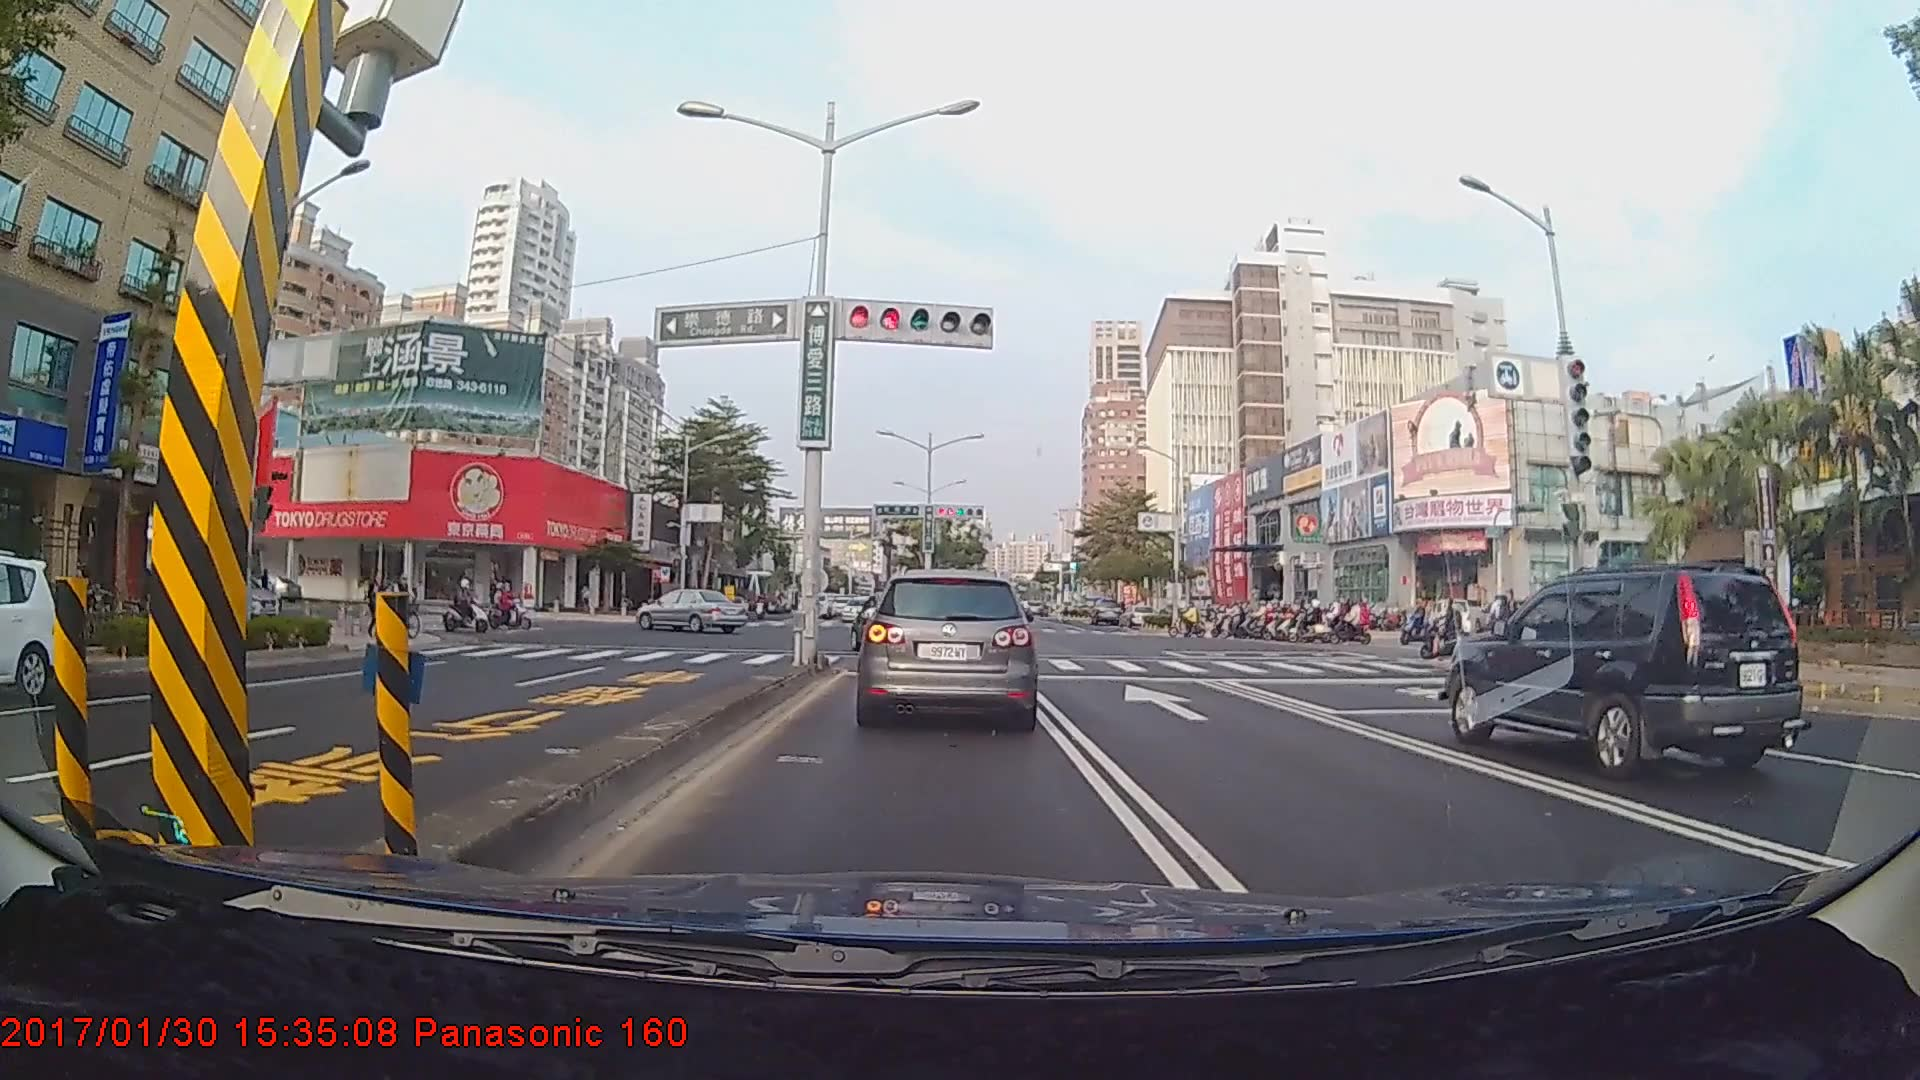pedestrian: (366, 566, 389, 642)
rider: (1422, 600, 1479, 661), (392, 566, 431, 637), (487, 576, 533, 630), (1330, 593, 1377, 646), (1303, 601, 1349, 642), (1172, 600, 1208, 637)
vehicle: (1440, 565, 1809, 783), (858, 566, 1037, 730), (0, 556, 58, 708), (635, 586, 749, 635), (1092, 597, 1122, 624)
